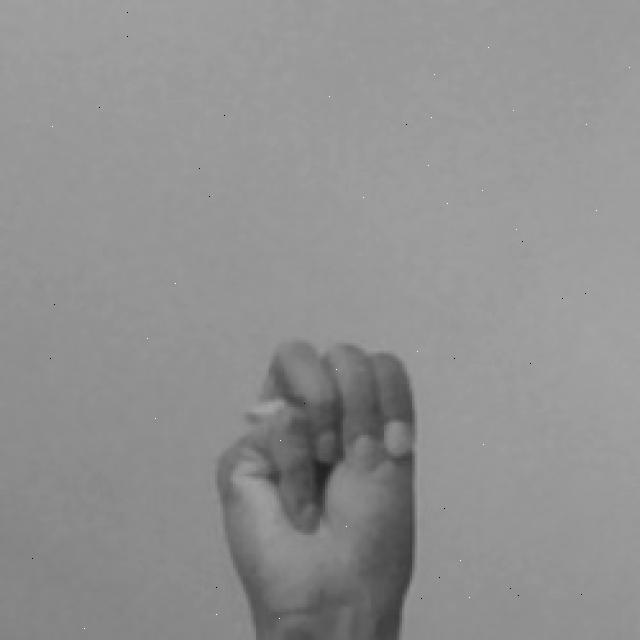M: (207, 332, 424, 640)
